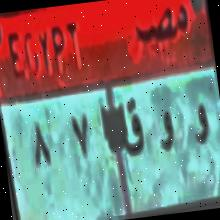7: (66, 109, 96, 161)
8: (25, 116, 54, 171)
qaaf: (118, 93, 148, 163)
waw: (189, 98, 214, 154), (153, 105, 178, 160)
